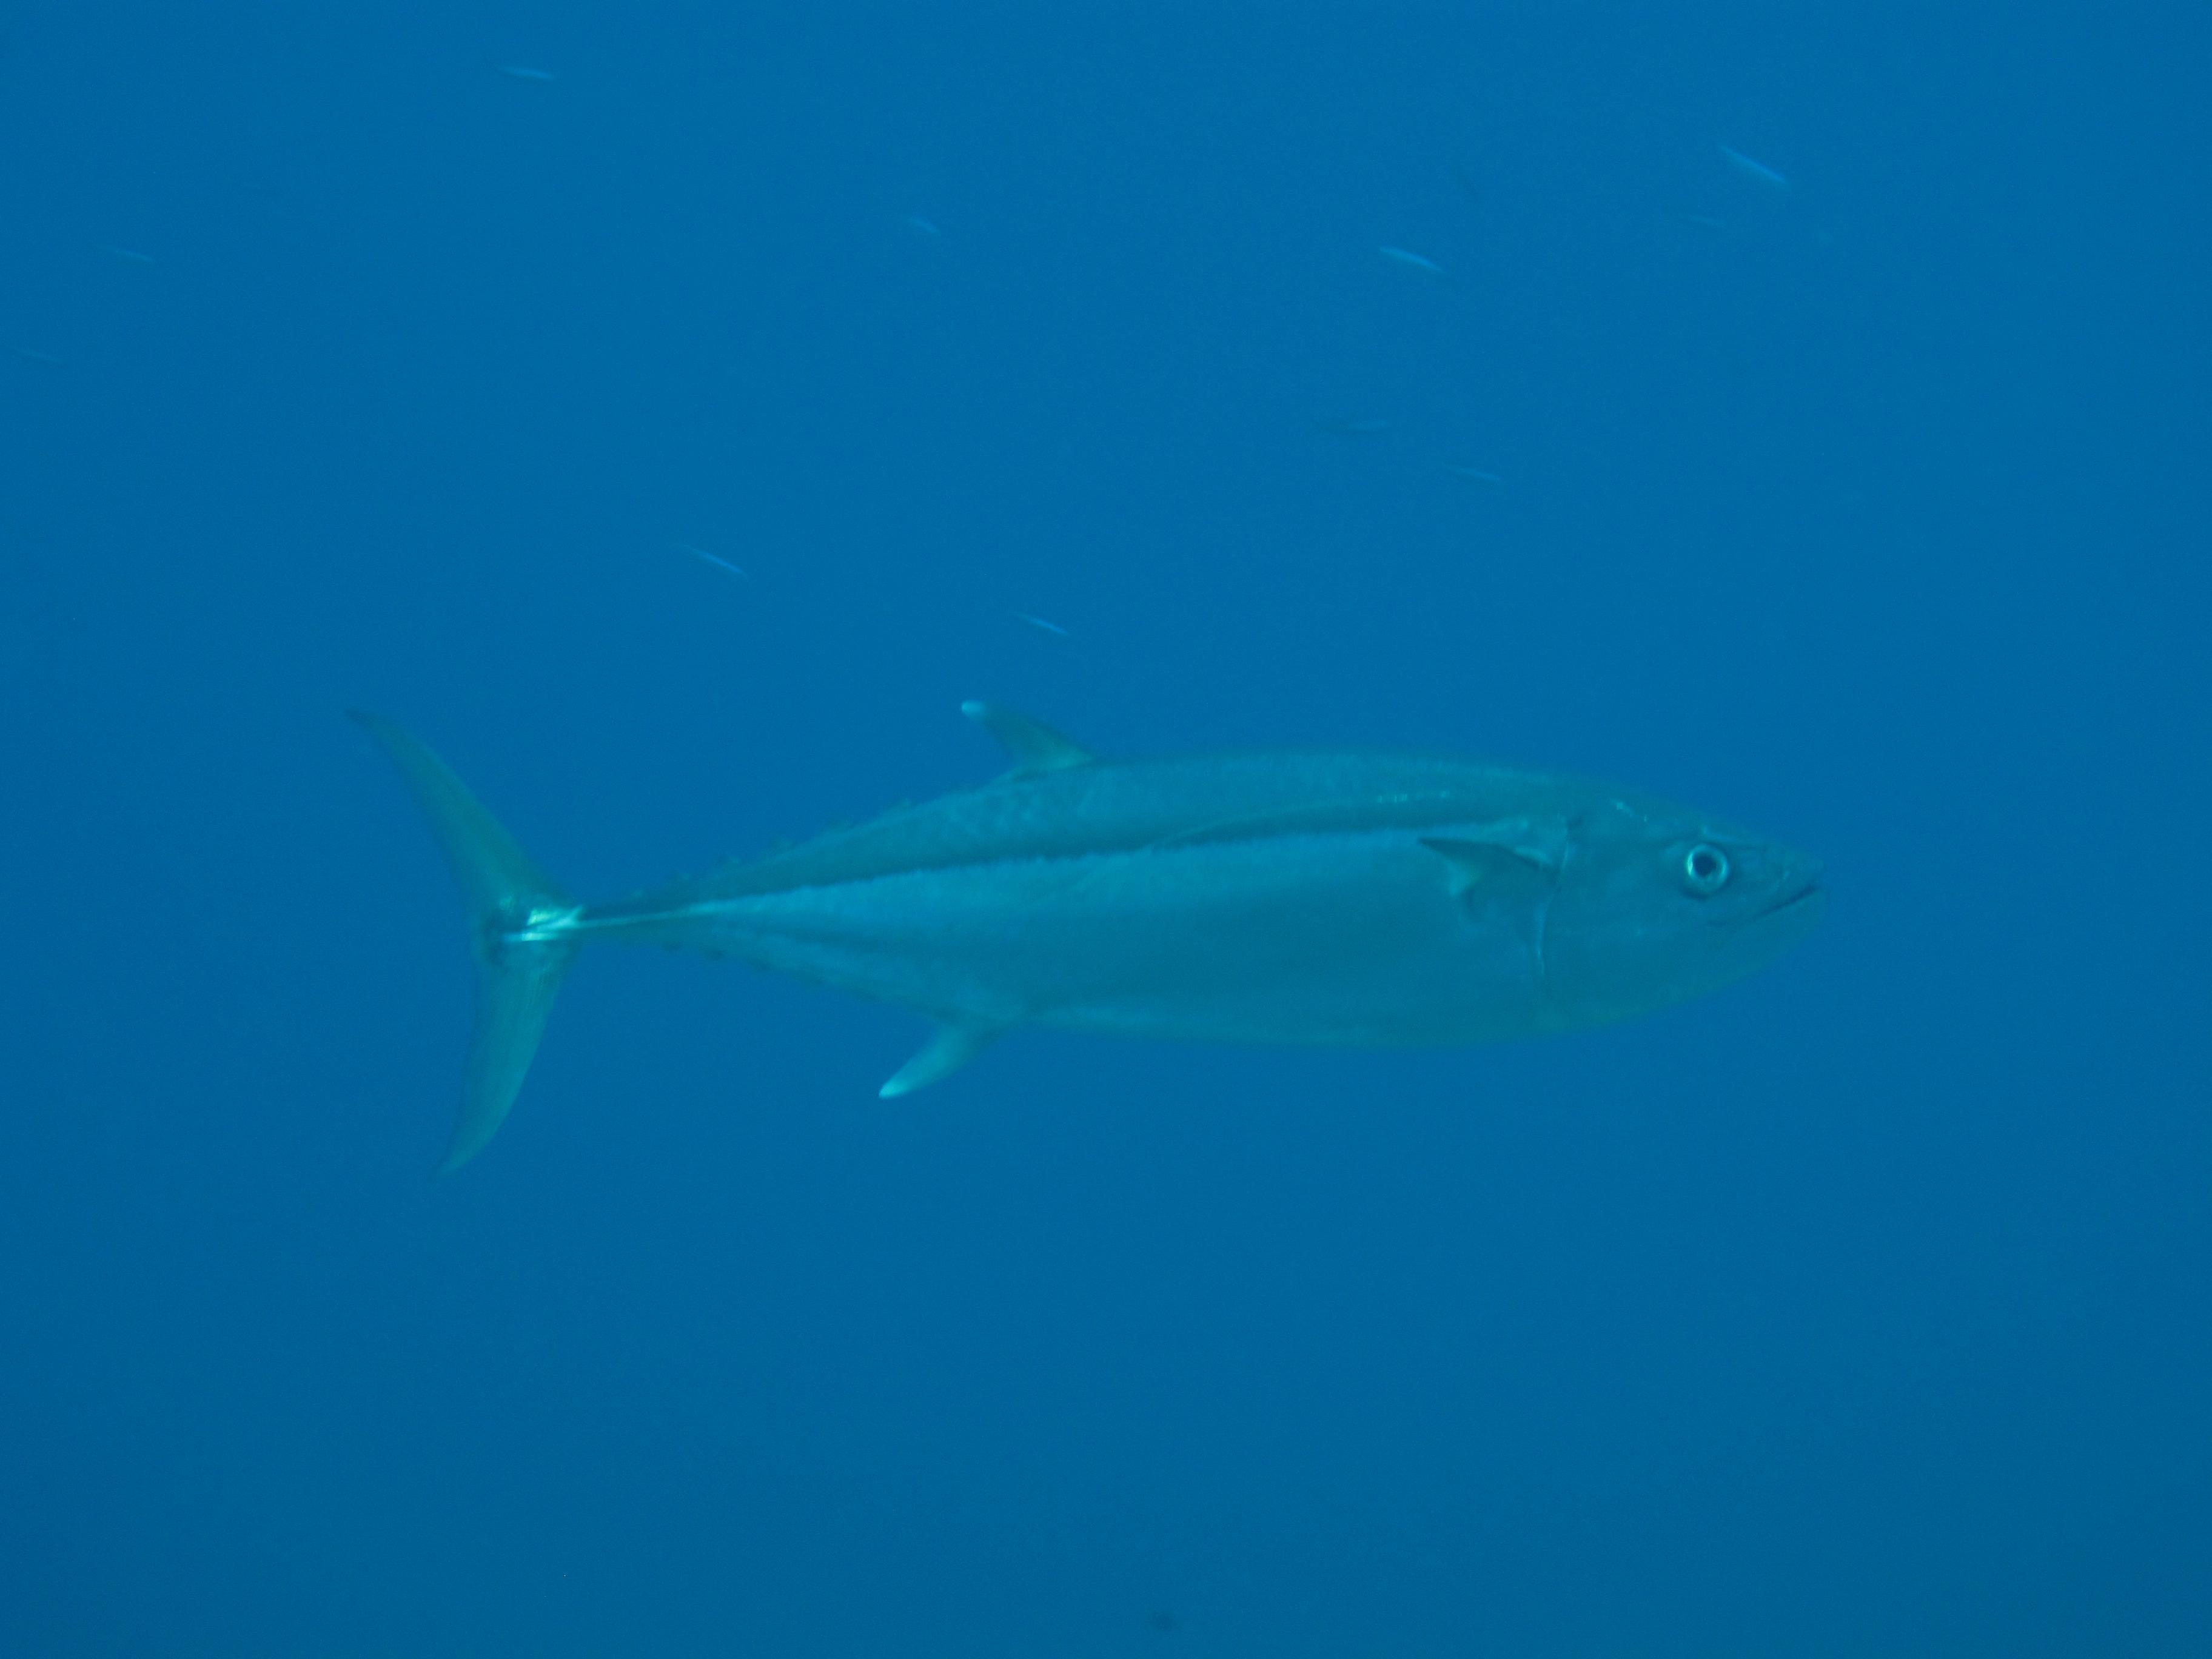Fish: (331, 612, 1982, 1241)
